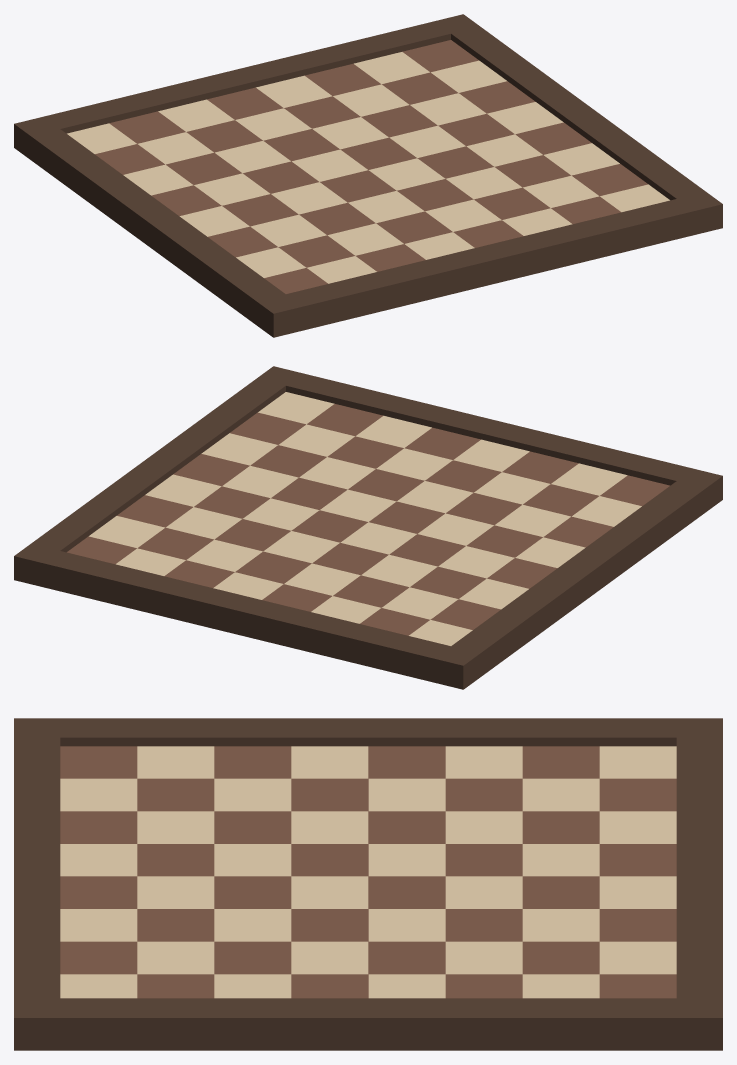
Rendered from board.glb.
3 views of the same model, one above another, from view 1: azimuth 30°, elevation 25°; view 2: azimuth 150°, elevation 25°; view 3: azimuth 270°, elevation 25° (orthographic). The views are drawn at different scales.
Parts seen in each view (by area): view 1: squares, frame; view 2: squares, frame; view 3: squares, frame.
Boxes of the visible parts, x1,y1,x2,y2 form: squares: [67, 40, 669, 293]; frame: [14, 14, 722, 337]; squares: [67, 392, 669, 645]; frame: [14, 366, 722, 689]; squares: [60, 746, 676, 998]; frame: [14, 718, 722, 1050].
Size of the model in its own units: 9.2 by 0.47 by 9.2.
